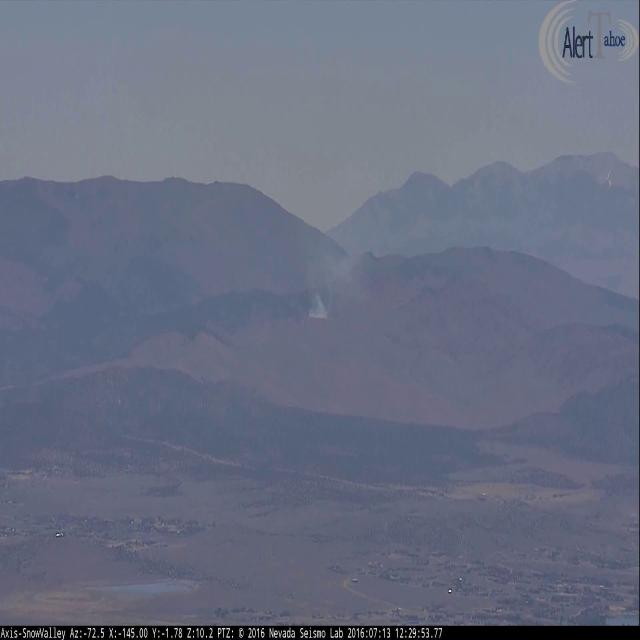smoke: (306, 158, 389, 318)
